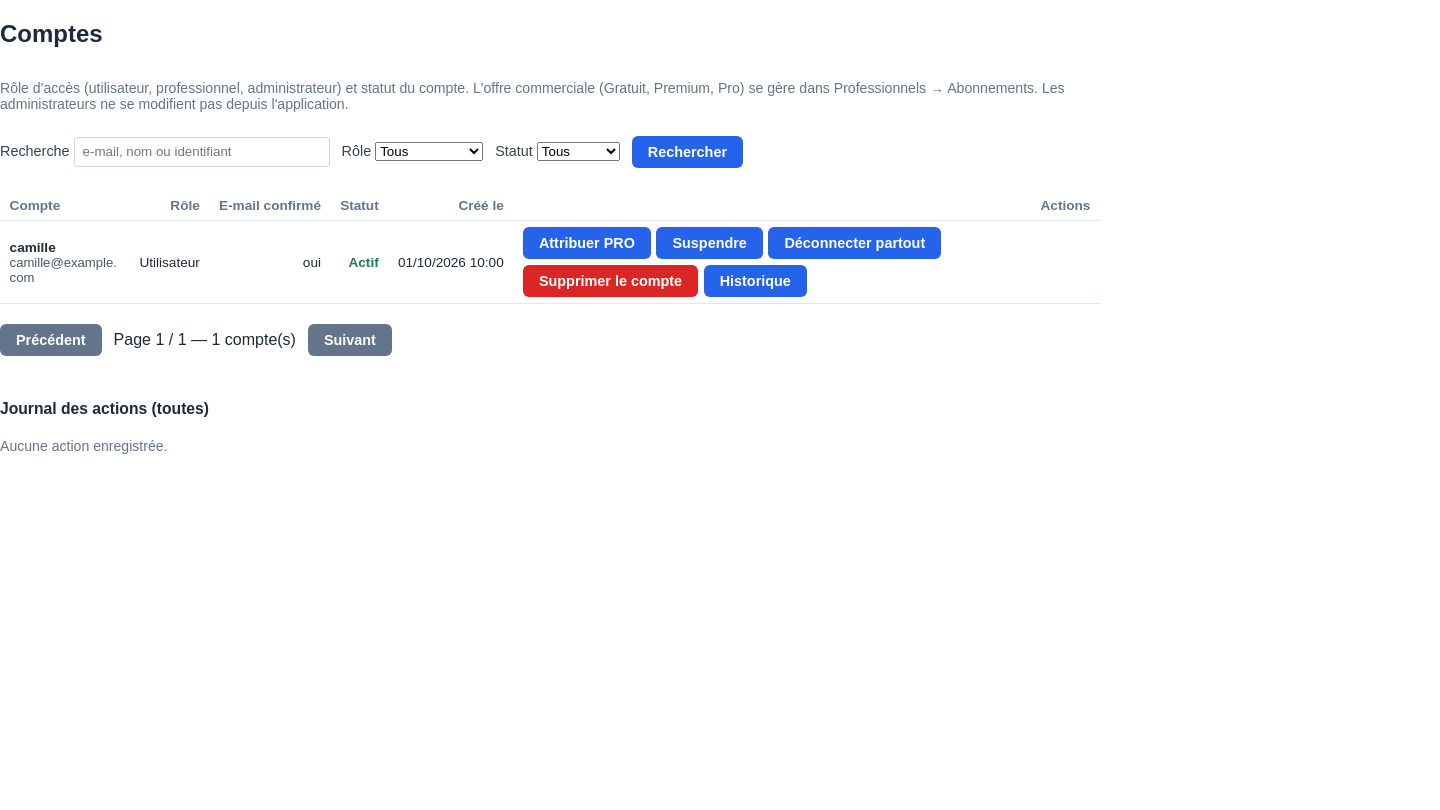
Scenario: AdminAccountsSection › exige un motif pour suspendre, puis affiche le résultat
This screenshot has width=1440, height=810.
Click the button "Suspendre" at [710, 243], box [656,227,763,259]
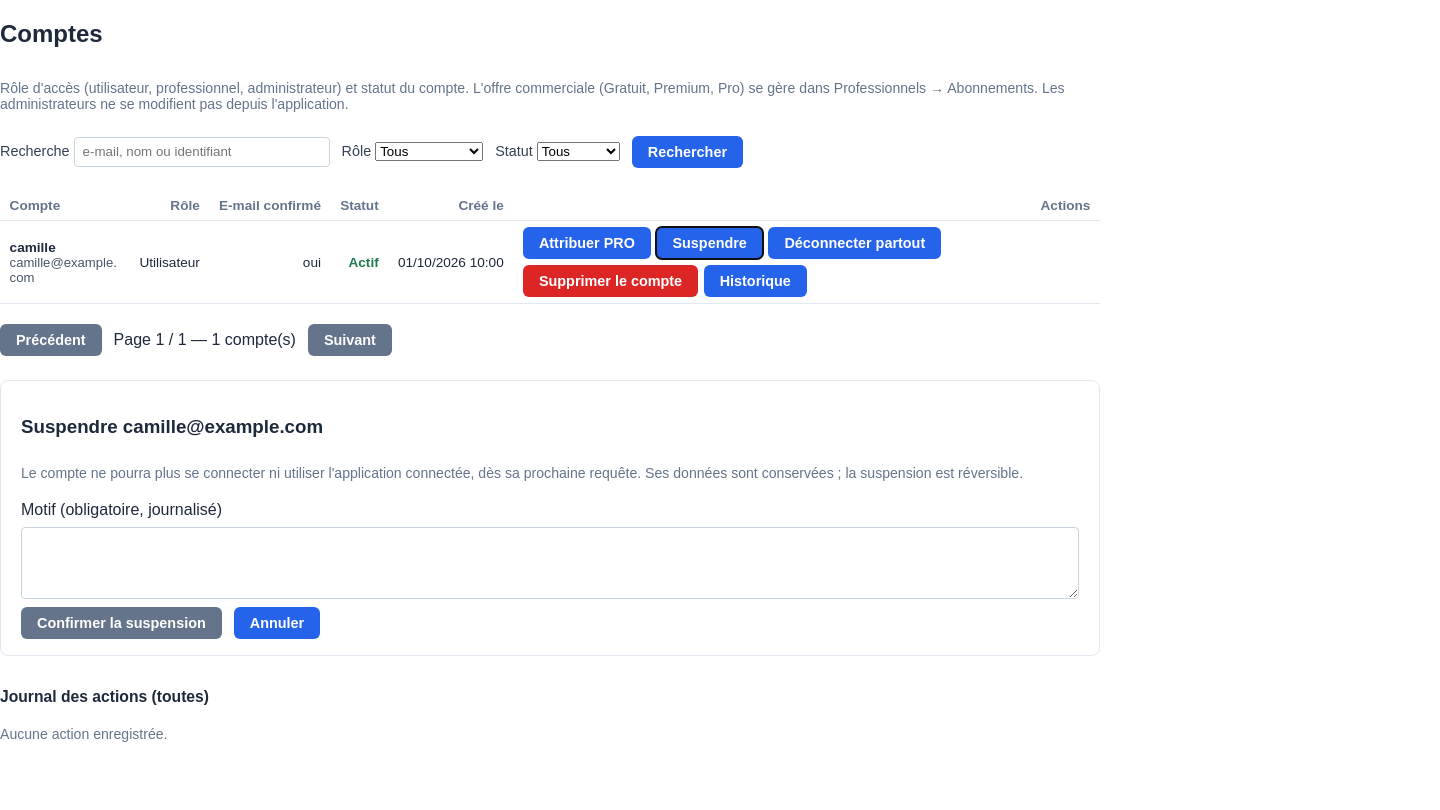
Now the button "Confirmer la suspension" is disabled, box [21,607,222,639]
Type "Spam répété" into the text box labelled "Motif (obligatoire, journalisé)" at [550, 563], box [21,527,1079,599]
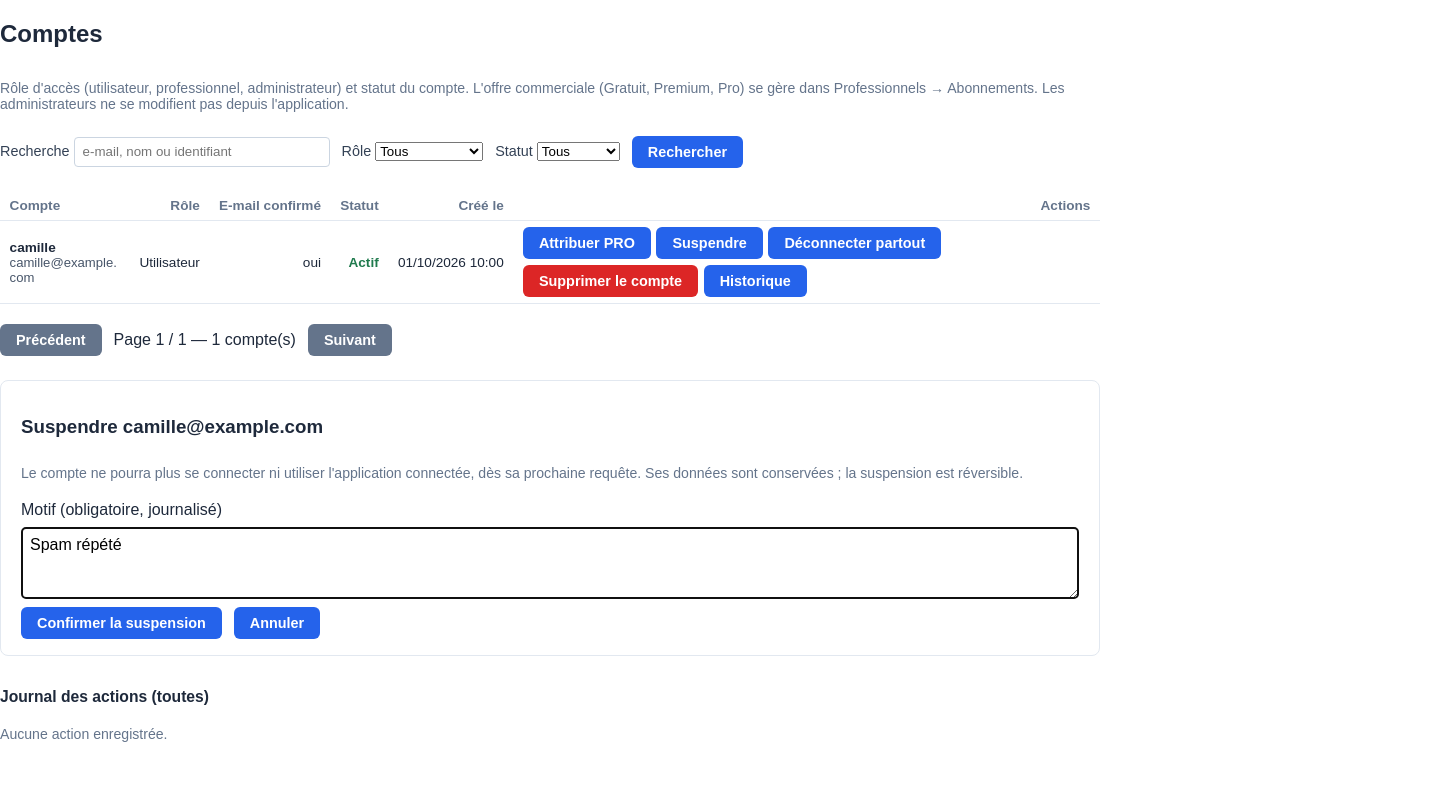
Click the button "Confirmer la suspension" at [121, 623], box [21,607,222,639]
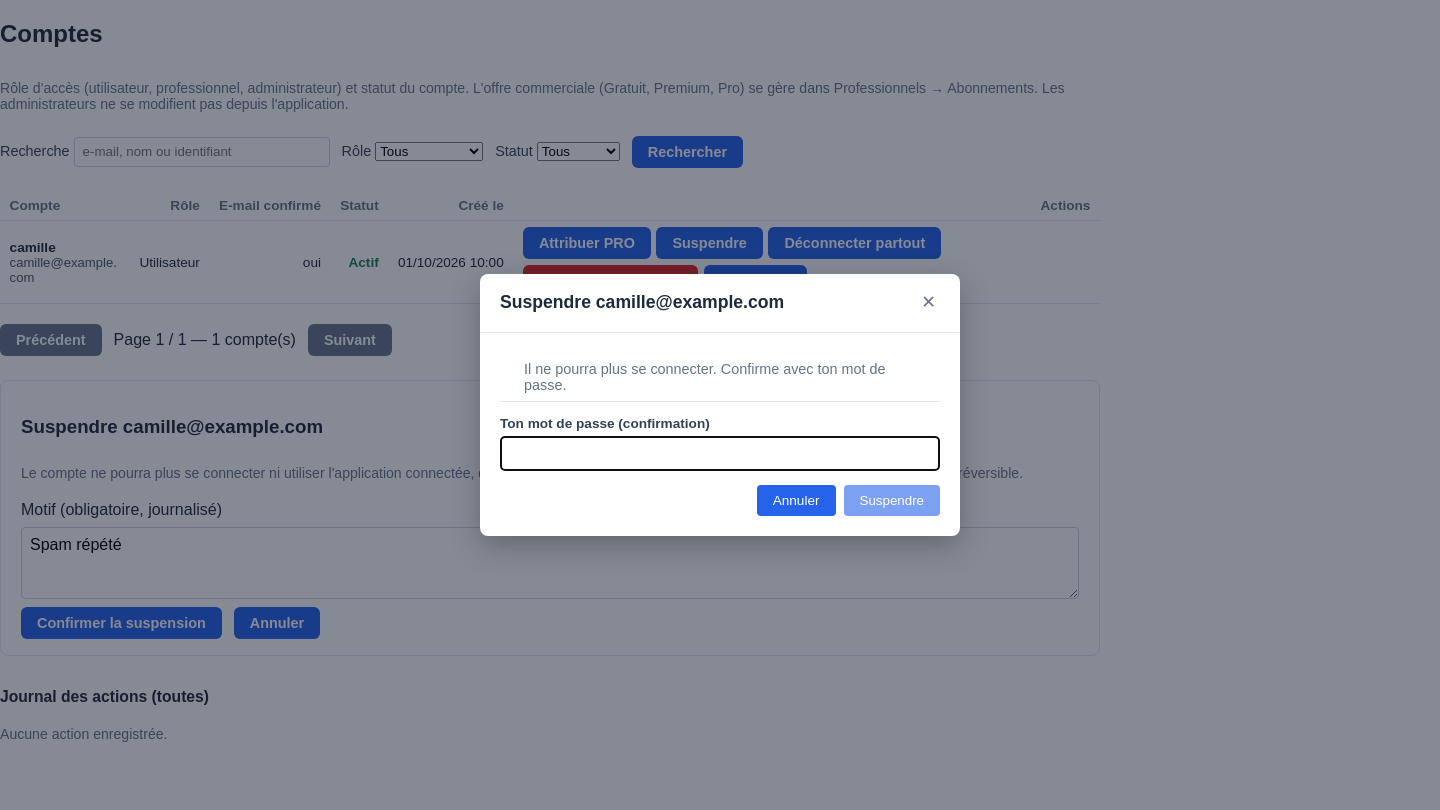
Type "secret-admin" into the password field labelled "Ton mot de passe (confirmation)" at [720, 453], box [500,436,940,471]
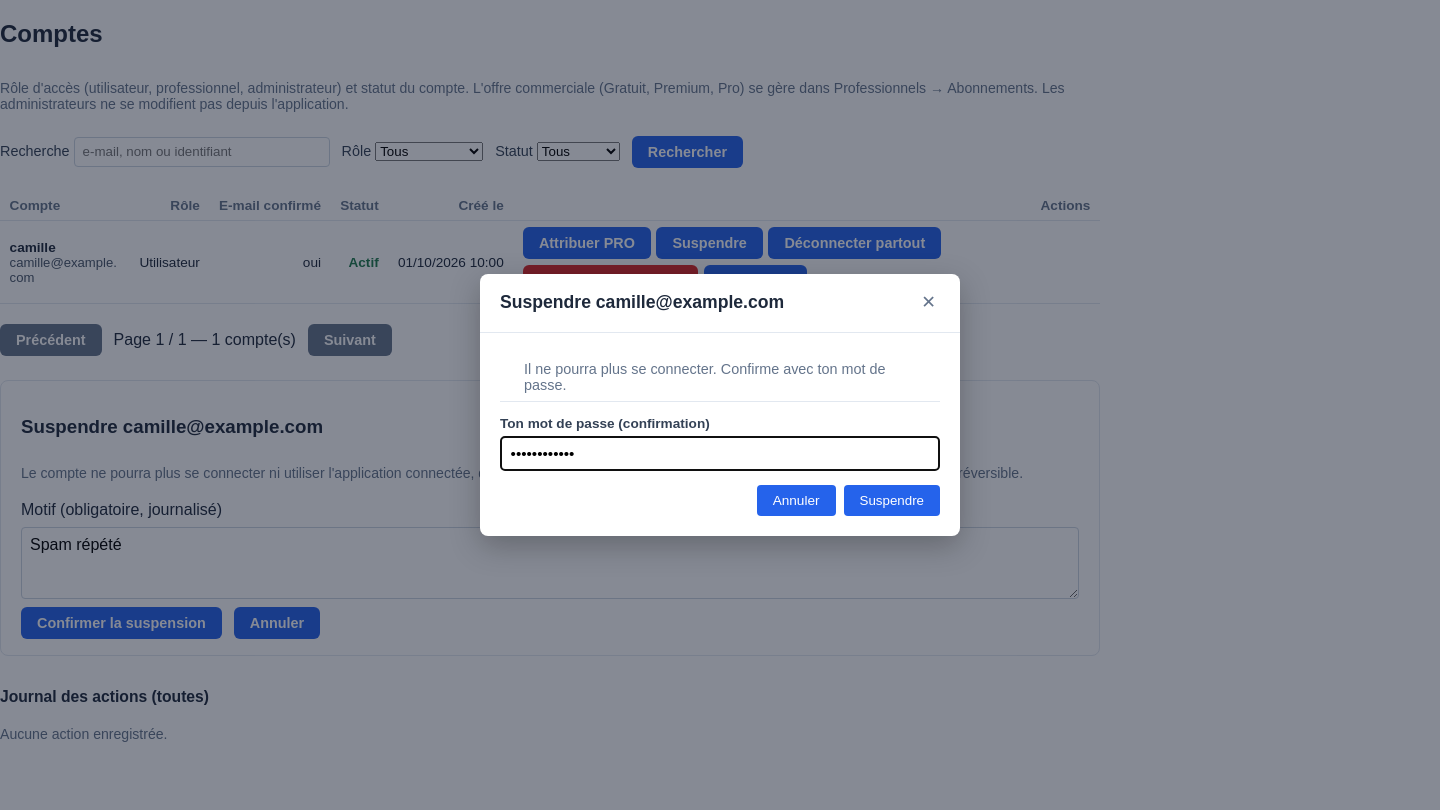
Click the button "Suspendre" at [892, 501], box [844,485,940,516]
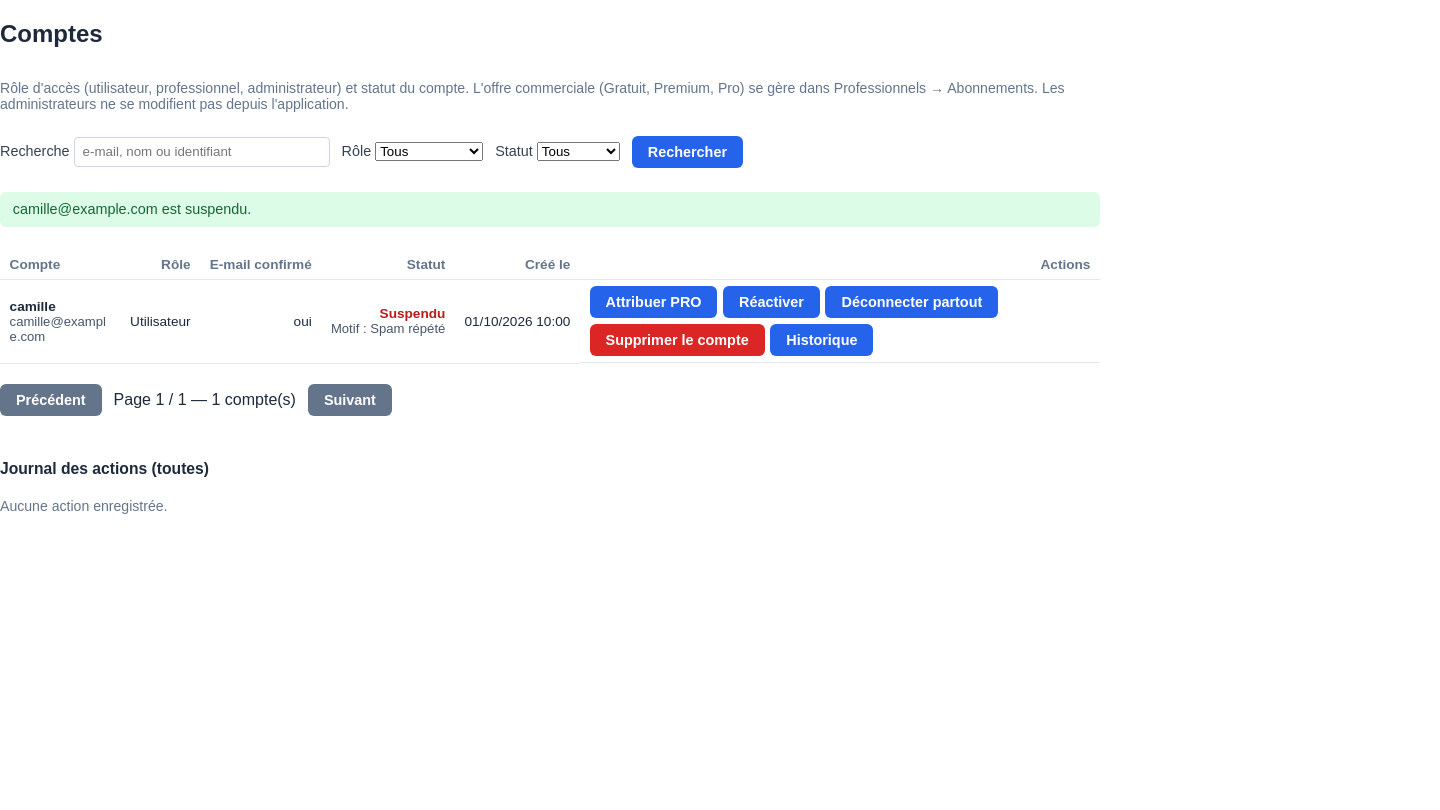
Now the text "camille@example.com est suspendu." is shown, box [0,192,1100,227]
Now the text "Motif : Spam répété" is shown, box [331,321,445,336]
